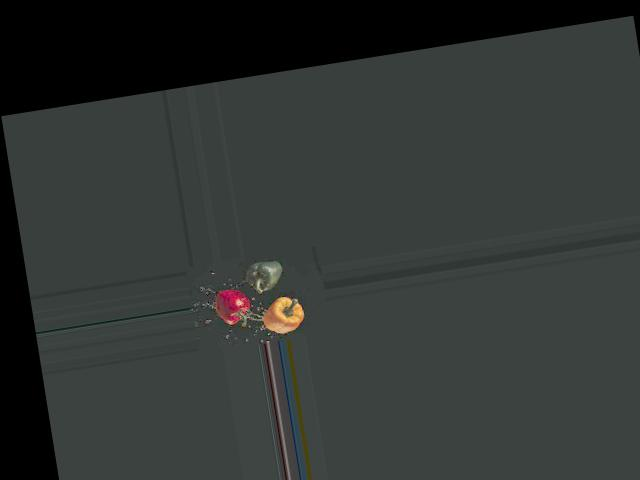bell_pepper: (211, 277, 260, 335)
